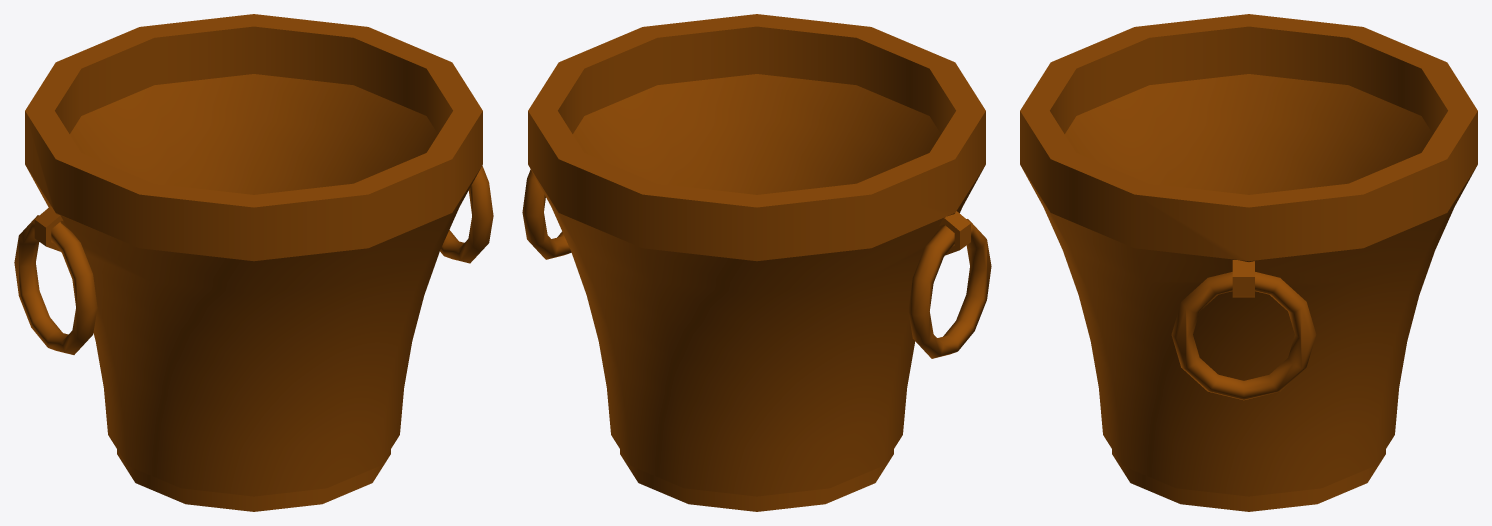
The model's file is Apothecary_Mortar.fbx.
The picture shows the model from 3 angles, left to right: view 1: azimuth 30°, elevation 25°; view 2: azimuth 150°, elevation 25°; view 3: azimuth 270°, elevation 25°; orthographic projection.
Parts seen in each view (by area): view 1: OuterShell; view 2: OuterShell; view 3: OuterShell.
Part boxes in pixels (x1,y1,x2,y2): OuterShell: (14,14,493,511); OuterShell: (522,14,991,511); OuterShell: (1020,14,1477,511).
Bounding box in the file's own units: 0.62 × 0.4818 × 0.5824.
